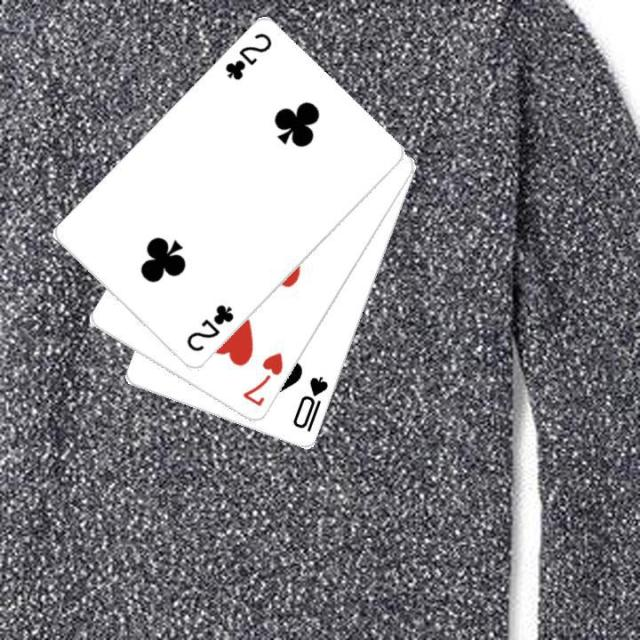10S: (289, 372, 331, 434)
2C: (182, 300, 236, 354), (220, 30, 274, 84)
7H: (238, 348, 286, 409)
